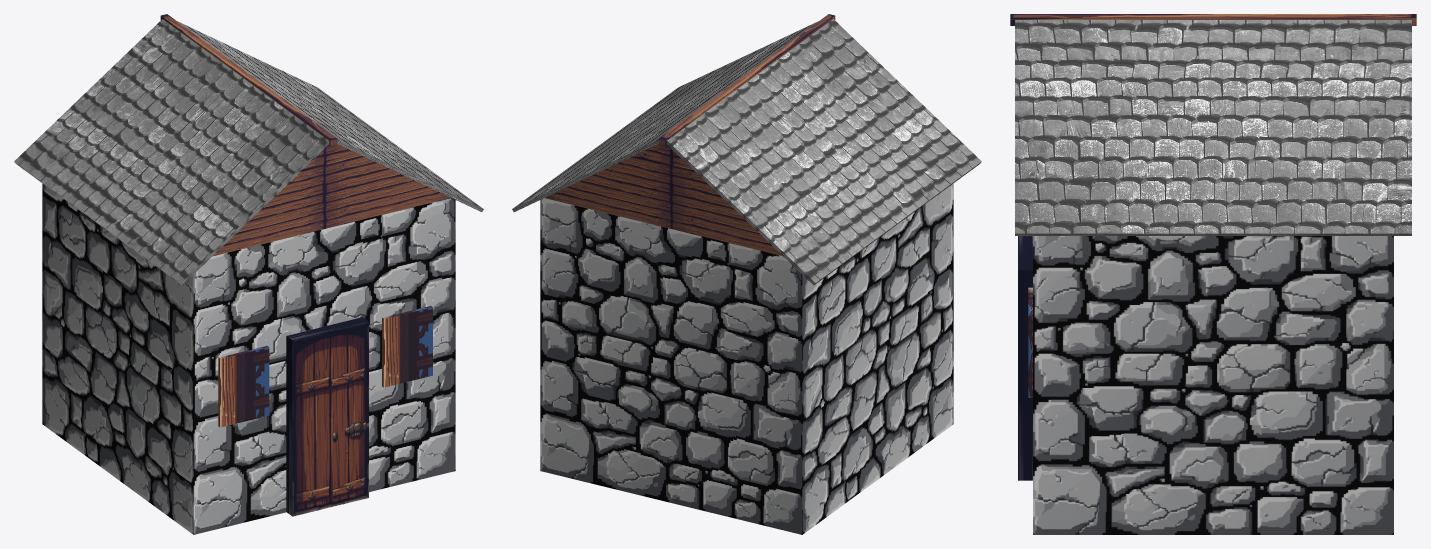
Rendered from BaseBuildingFBX.fbx.
3 views of the same model, side by side, from view 1: azimuth 30°, elevation 25°; view 2: azimuth 150°, elevation 25°; view 3: azimuth 270°, elevation 25° (orthographic). The views are drawn at different scales.
Parts seen in each view (by area): view 1: Building, Roof1, Door, RoofPeak, Roof2, Window1, Window2, Rooftop; view 2: Building, Roof1, RoofPeak, Roof2, Rooftop; view 3: Building, Roof2, Door, Rooftop, Window2.
Part boxes in pixels (<box>): Building: <box>42,183,455,534</box>; Roof1: <box>14,19,329,285</box>; Door: <box>286,317,368,516</box>; RoofPeak: <box>213,144,450,255</box>; Roof2: <box>177,21,483,211</box>; Window1: <box>218,346,269,427</box>; Window2: <box>382,306,432,387</box>; Rooftop: <box>160,14,337,146</box>; Building: <box>540,183,953,534</box>; Roof1: <box>666,19,981,285</box>; RoofPeak: <box>545,144,782,255</box>; Roof2: <box>512,21,818,211</box>; Rooftop: <box>658,14,835,146</box>; Building: <box>1033,236,1393,534</box>; Roof2: <box>1015,20,1411,235</box>; Door: <box>1018,236,1032,480</box>; Rooftop: <box>1010,14,1416,25</box>; Window2: <box>1028,287,1032,397</box>.
Bounding box in the file's own units: 928 × 1082 × 900.
Materials: 7 (7 with a texture image).
